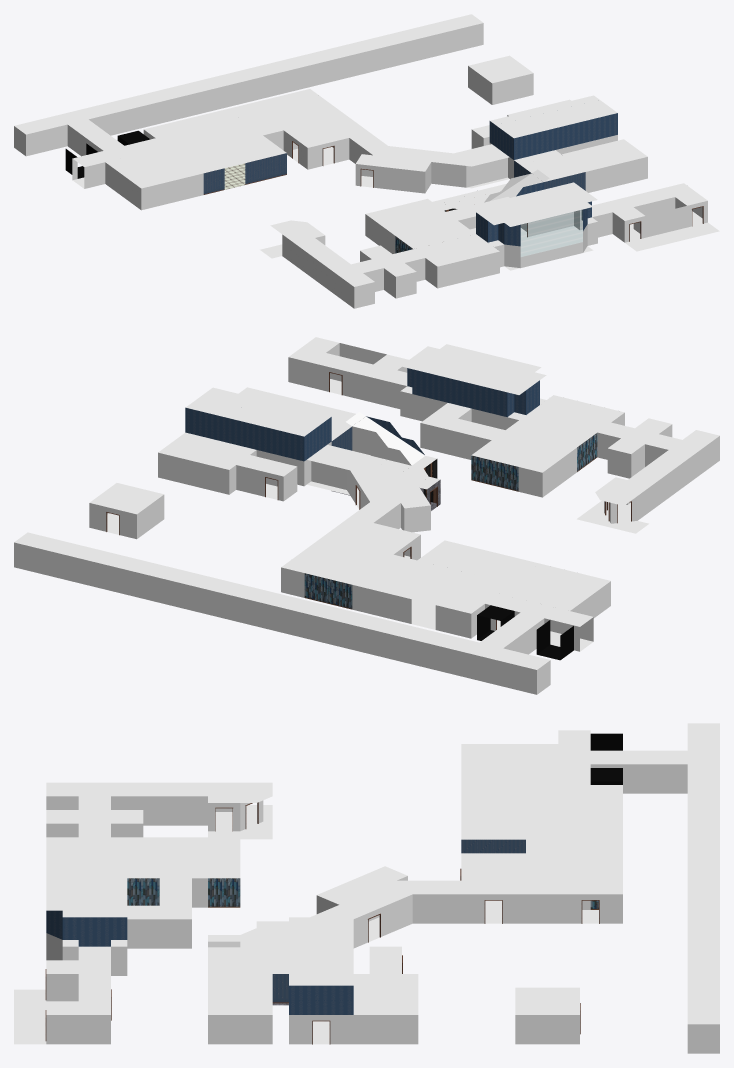
Rendered from grandplayarea.fbx.
The picture shows the model from 3 angles, top to bottom: view 1: azimuth 30°, elevation 25°; view 2: azimuth 150°, elevation 25°; view 3: azimuth 270°, elevation 25°; orthographic projection. The views are drawn at different scales.
Parts seen in each view (by area): view 1: Grand Play Area; view 2: Grand Play Area; view 3: Grand Play Area.
Part boxes in pixels (x1=…): Grand Play Area: x1=14, y1=14, x2=719, y2=308; Grand Play Area: x1=14, y1=337, x2=719, y2=694; Grand Play Area: x1=14, y1=723, x2=719, y2=1053.
Size of the model in its own units: 68.75 by 68.21 by 9.38.
109 materials, 41 textured.
